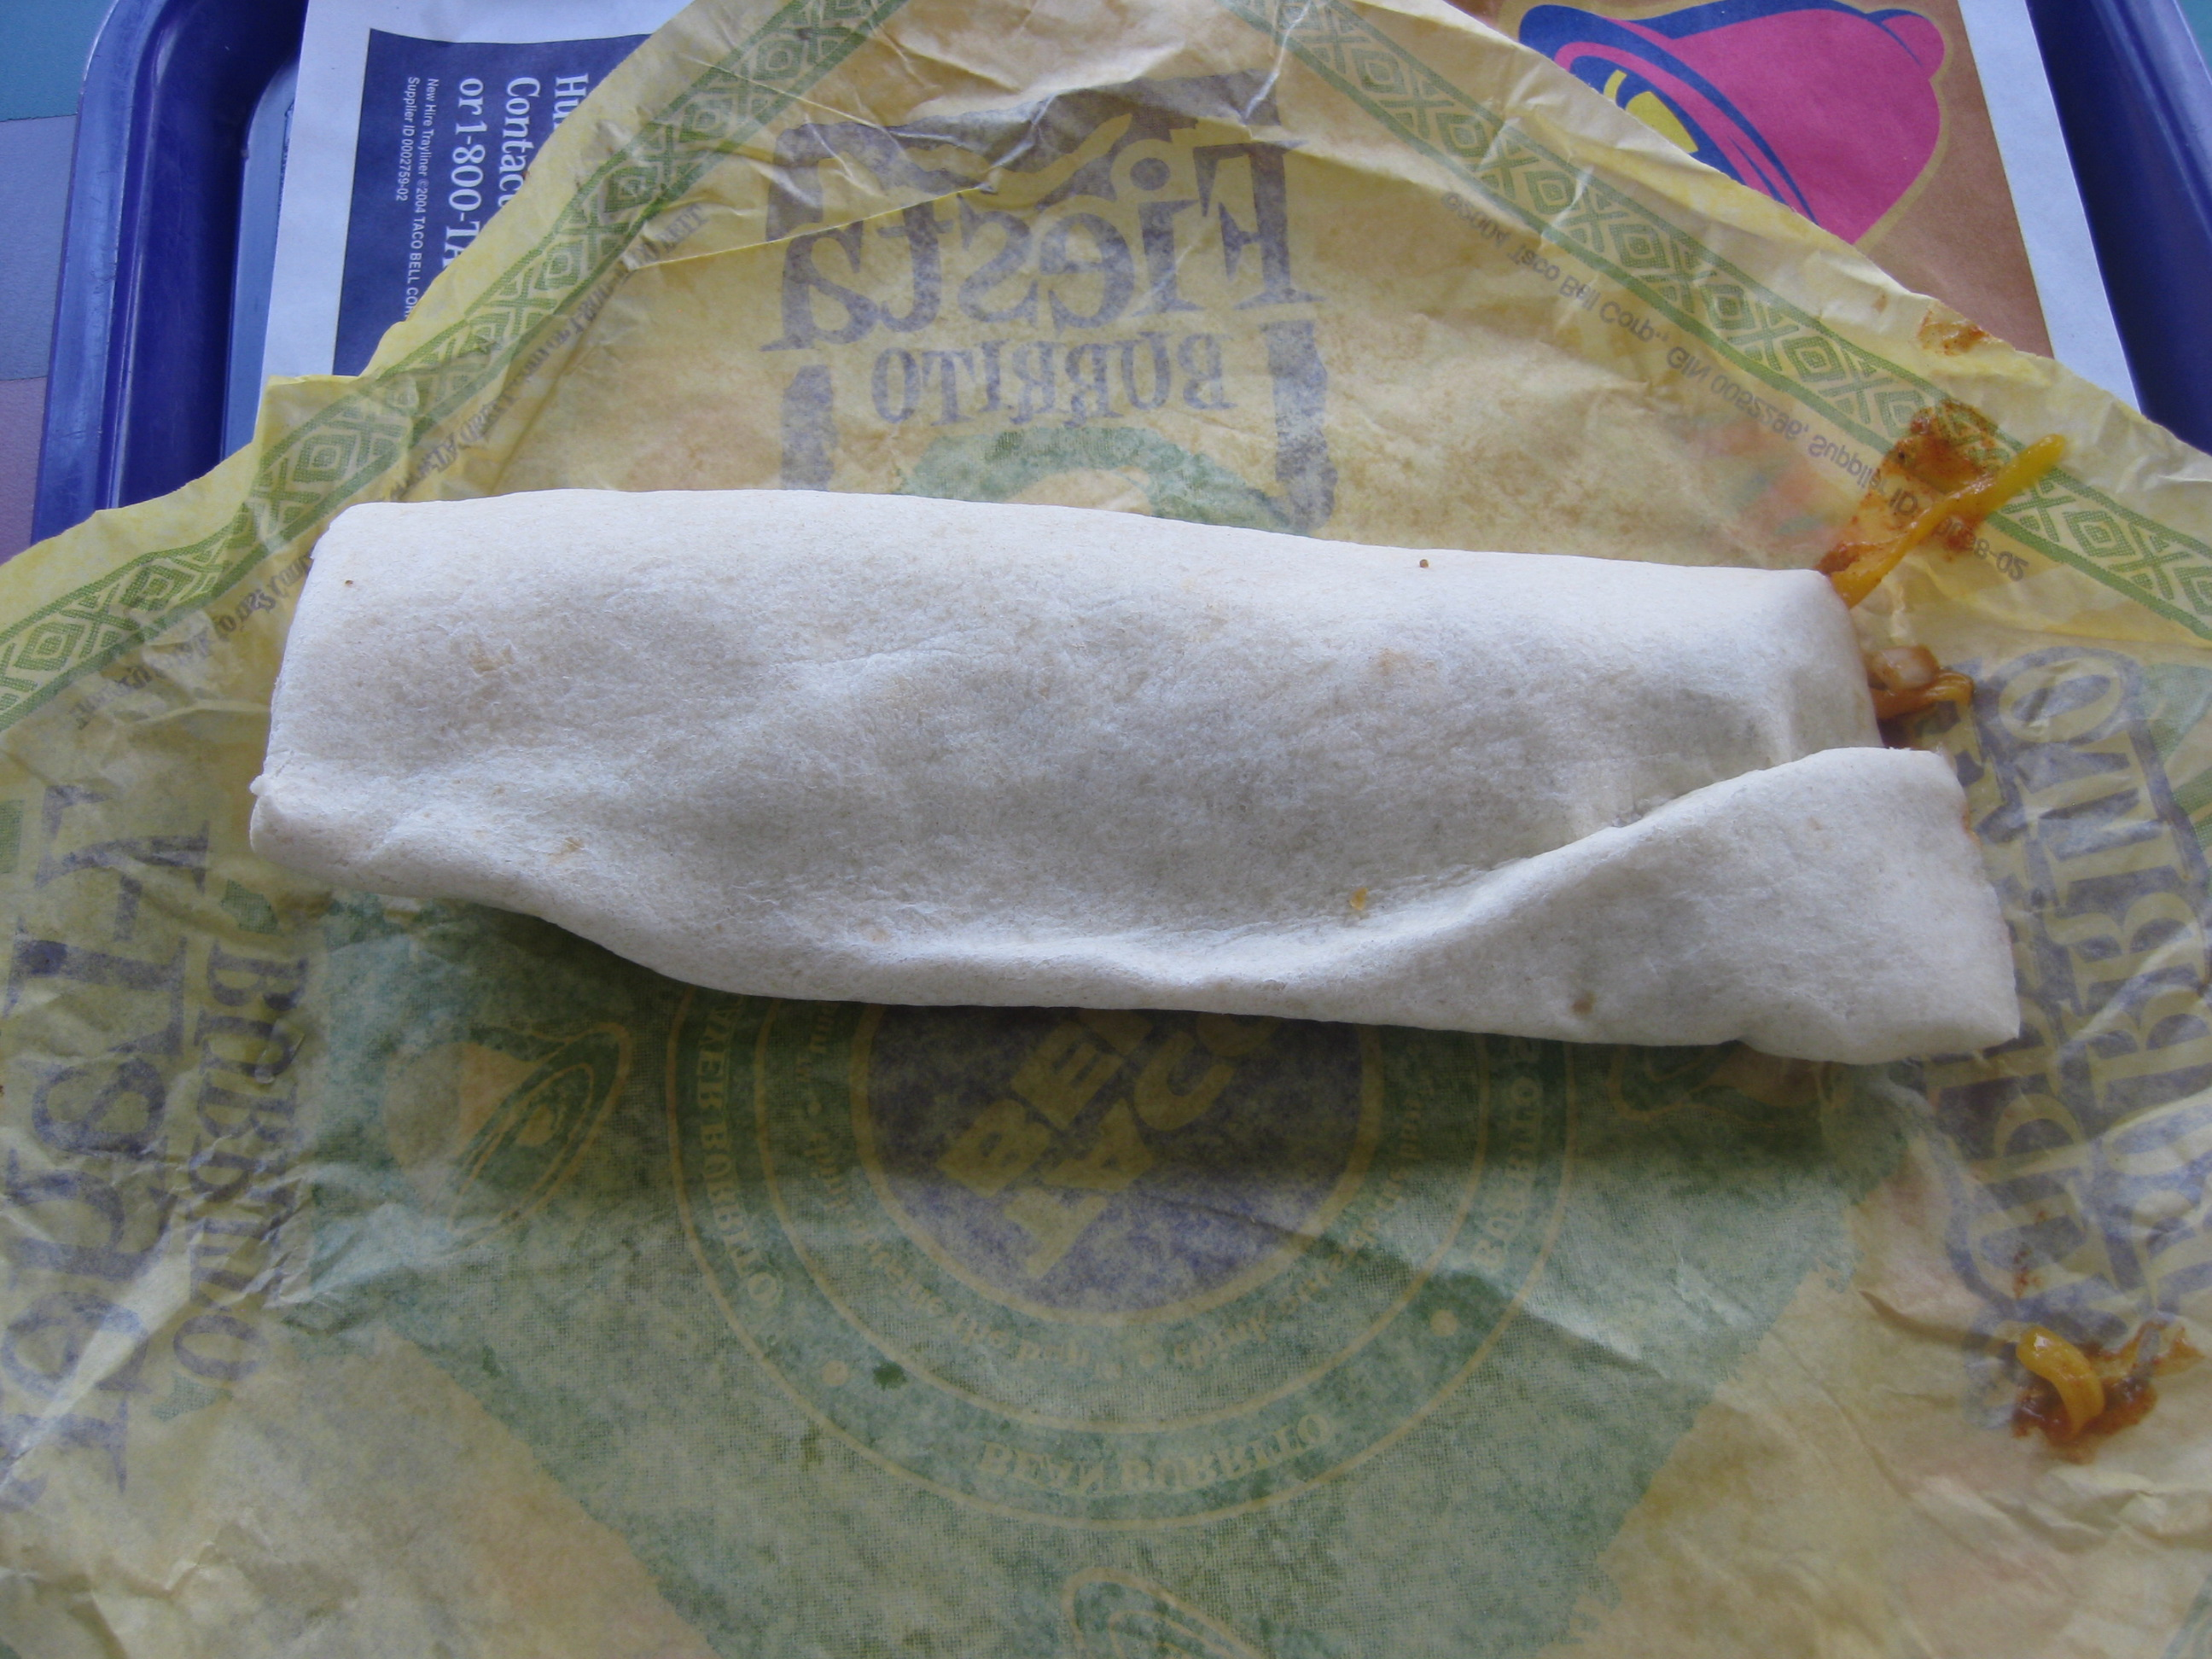burrito: (144, 434, 2120, 1151)
